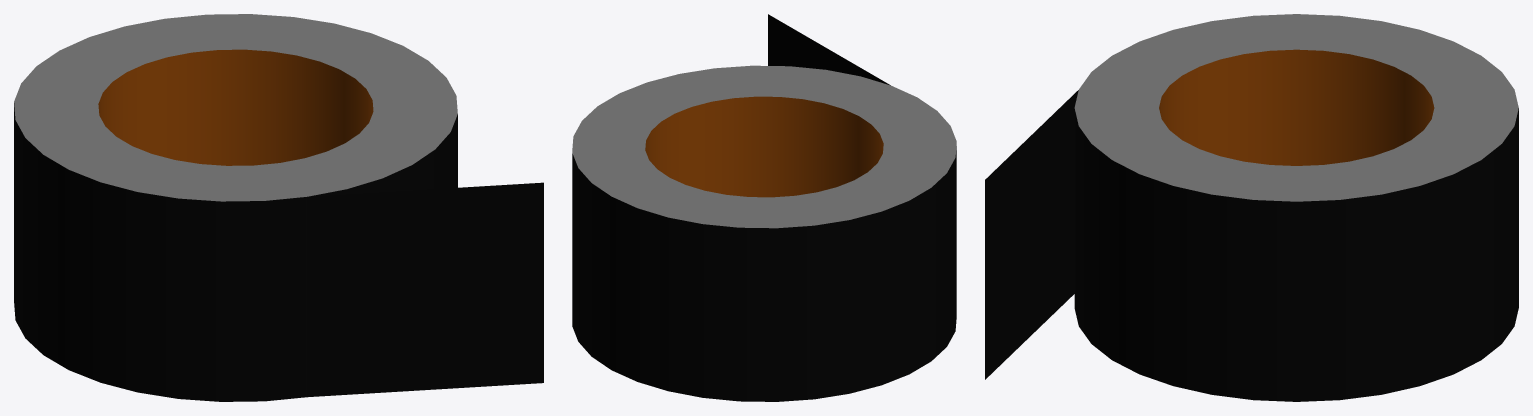
The model's file is Tape.fbx.
3 renders of one model, left to right at view 1: azimuth 30°, elevation 25°; view 2: azimuth 150°, elevation 25°; view 3: azimuth 270°, elevation 25°, orthographic. The views are drawn at different scales.
Parts seen in each view (by area): view 1: Tape; view 2: Tape; view 3: Tape.
Part boxes in pixels (x1,y1,x2,y2): Tape: (14, 14, 543, 401); Tape: (572, 14, 956, 401); Tape: (985, 14, 1518, 401).
Bounding box in the file's own units: 200 × 101 × 240.
1 material, 1 textured.
